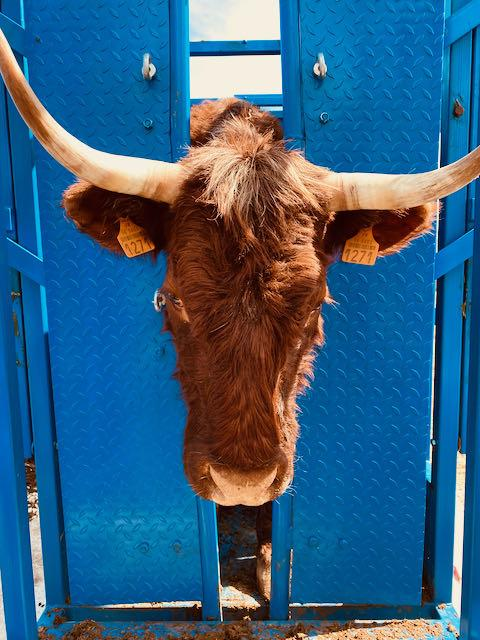muzzles: (169, 449, 308, 517)
